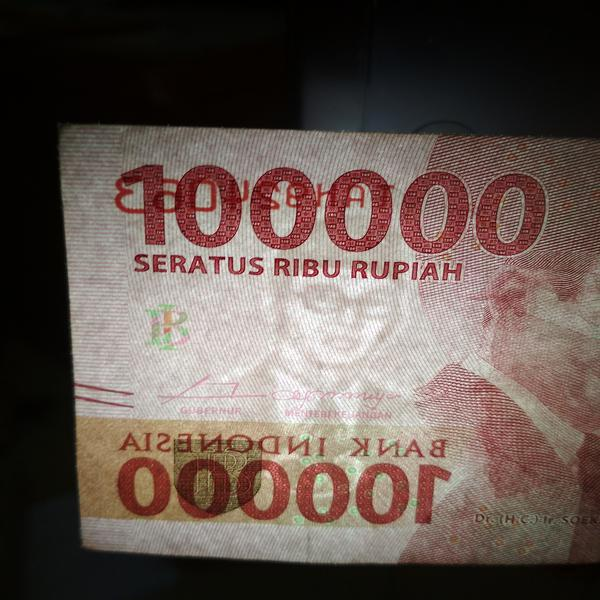uang asli: (190, 207, 470, 452)
